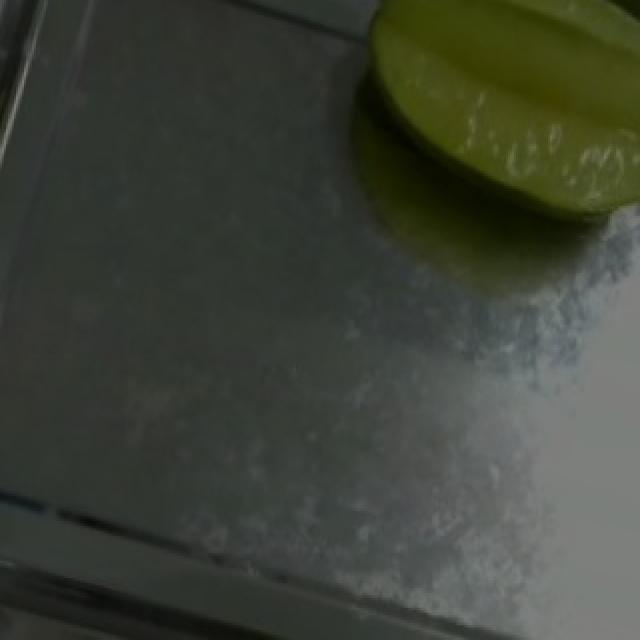fruit: (340, 0, 638, 253)
